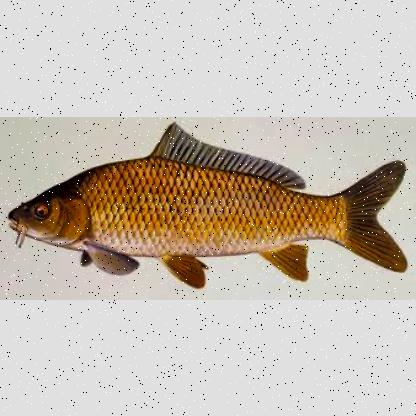ikan-mas: (6, 125, 412, 277)
